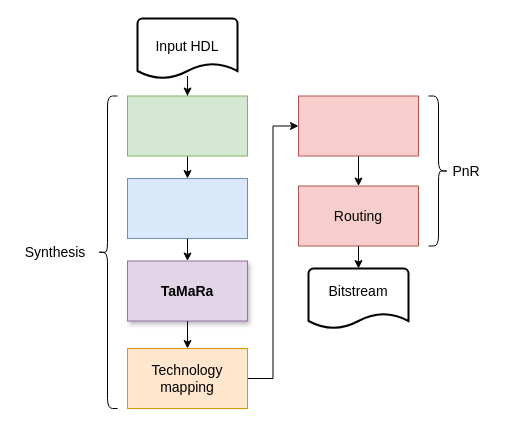
Some shapes in this 521 by 426 pixel diagram are drawn without their labels. Here are the shapes that lost their labels. From the top down, the centre of each, then its label:
At [187,125]: "Elaboration".
At [358,125]: "Placement".
At [187,208]: "Optimisation".
